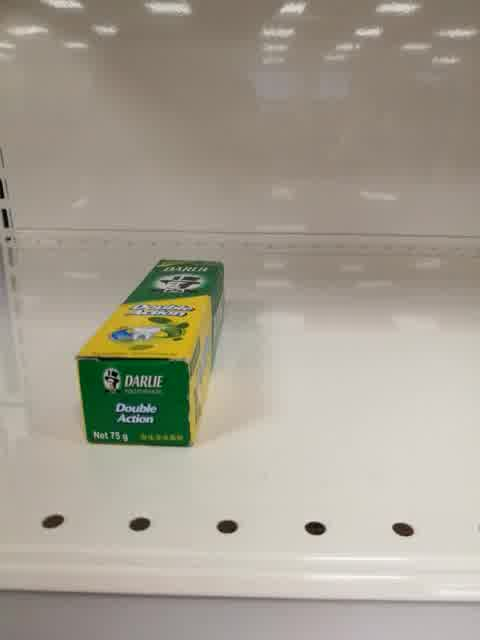toothpaste: (73, 259, 225, 447)
